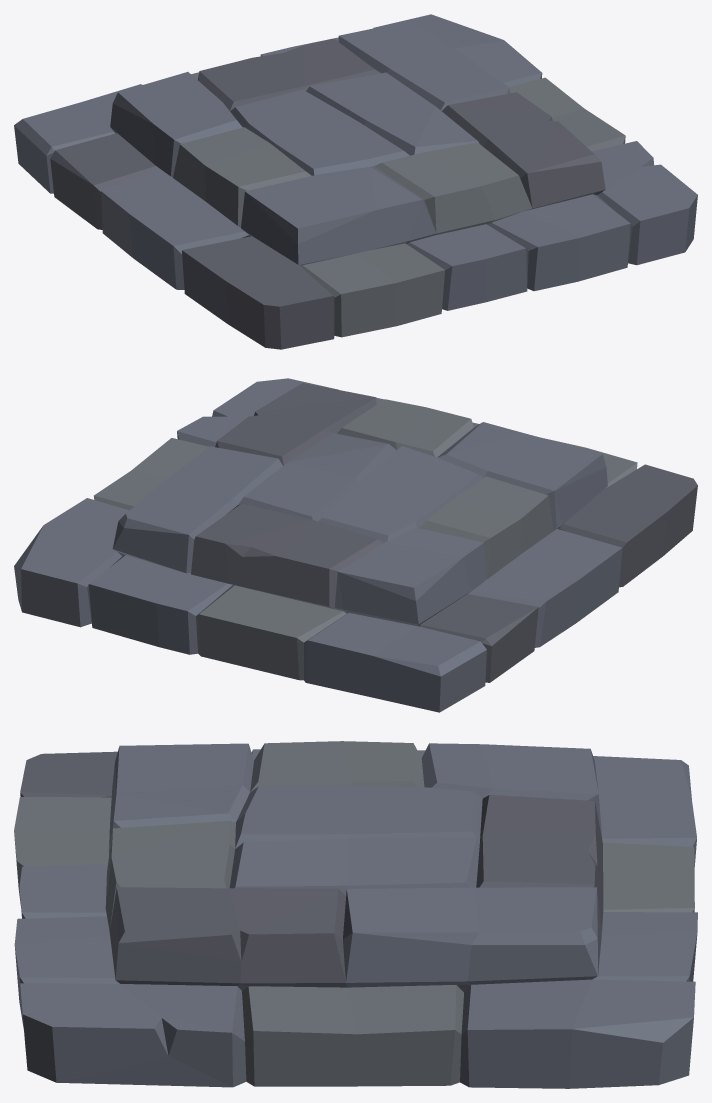
The model's file is Altar.gltf.
3 renders of one model, top to bottom at view 1: azimuth 30°, elevation 25°; view 2: azimuth 150°, elevation 25°; view 3: azimuth 270°, elevation 25°, orthographic. The views are drawn at different scales.
Visible parts, largest first — view 1: Altar2; view 2: Altar2; view 3: Altar2.
Part boxes in pixels (box(x1,y1,x2,y2)): Altar2: box(14, 14, 697, 349); Altar2: box(14, 378, 697, 712); Altar2: box(14, 741, 697, 1088).
Size of the model in its own units: 0.7709 by 0.1432 by 0.7851.
Materials: 1 (1 with a texture image).
